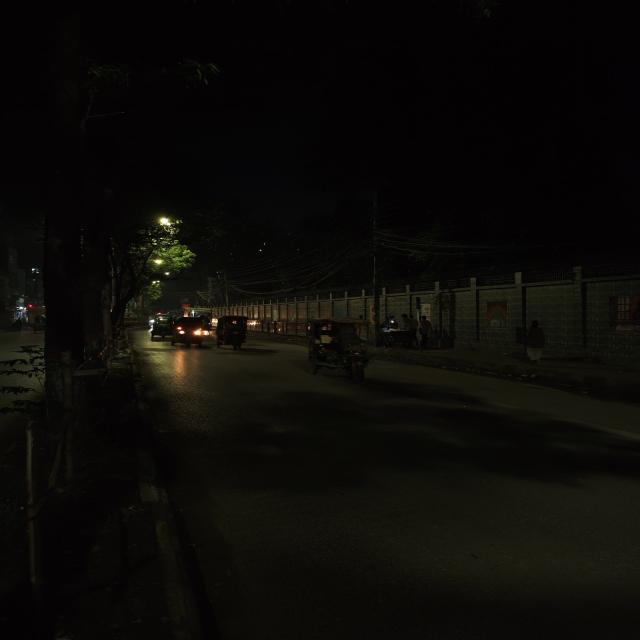cng: (170, 313, 210, 349), (145, 311, 182, 343)
pedestrian: (518, 318, 555, 377), (411, 313, 436, 351)
rickshaw: (300, 319, 382, 380), (213, 314, 256, 352)
